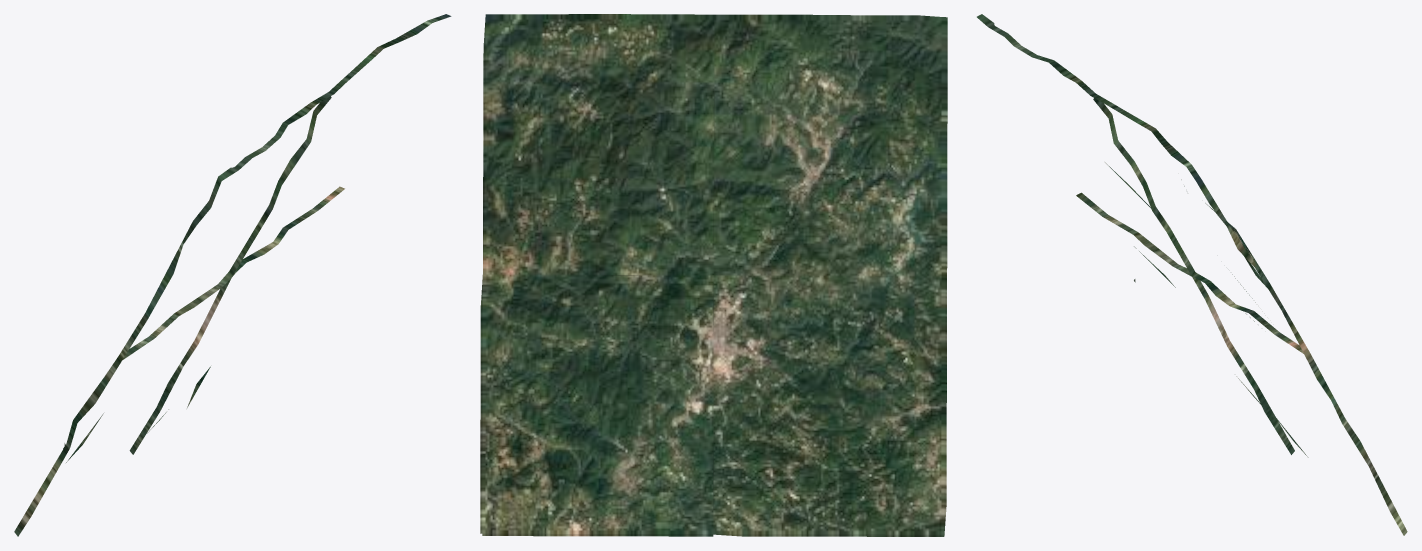
3 views of the same model, side by side, from view 1: azimuth 30°, elevation 25°; view 2: azimuth 150°, elevation 25°; view 3: azimuth 270°, elevation 25° (orthographic). The views are drawn at different scales.
Size of the model in its own units: 39614 by 35544 by 33668.
Materials: 1 (1 with a texture image).
